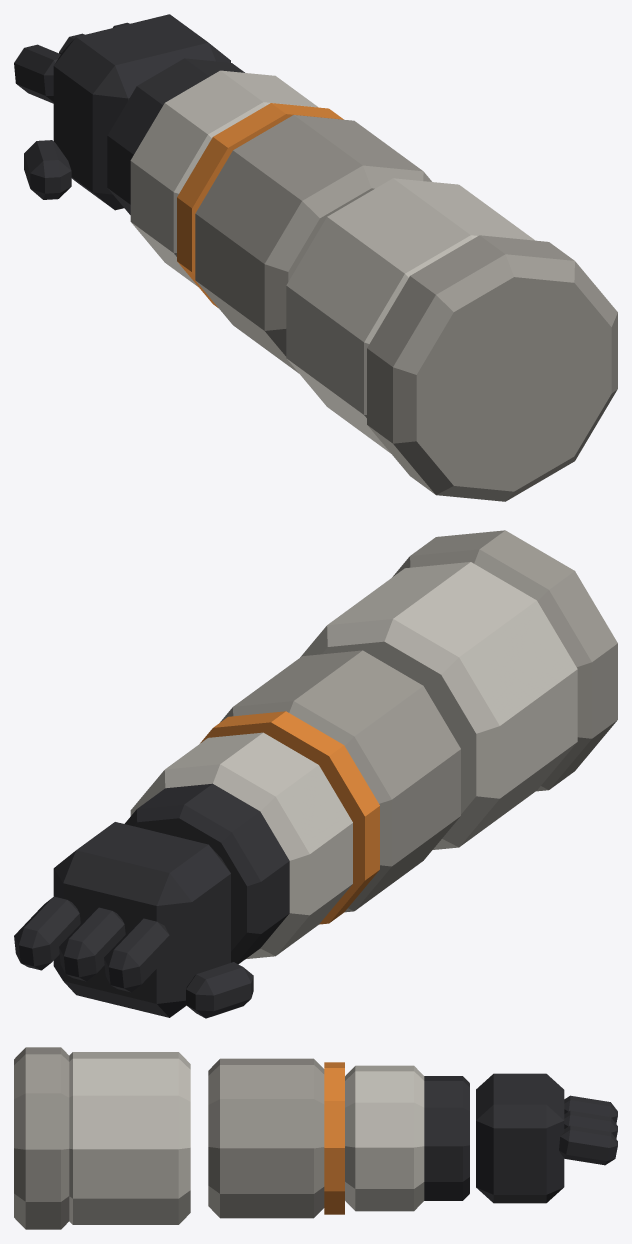
The model's file is TC_PLAYER_BareArm_V1.gltf.
3 views of the same model, one above another, from view 1: azimuth 30°, elevation 25°; view 2: azimuth 150°, elevation 25°; view 3: azimuth 270°, elevation 25° (orthographic). The views are drawn at different scales.
Parts seen in each view (by area): view 1: TC_BareArm_Elbow, TC_BareArm_Sleeve_1, TC_BareArm_Sleeve_0, TC_BareArm_Palm, TC_BareArm_Sleeve_2, TC_BareArm_GloveCuff, TC_BareArm_SuitStripe, TC_BareArm_Thumb, TC_BareArm_Finger_0; view 2: TC_BareArm_Sleeve_0, TC_BareArm_Sleeve_1, TC_BareArm_Palm, TC_BareArm_Sleeve_2, TC_BareArm_Elbow, TC_BareArm_GloveCuff, TC_BareArm_SuitStripe, TC_BareArm_Finger_0, TC_BareArm_Finger_1, TC_BareArm_Finger_2, TC_BareArm_Thumb; view 3: TC_BareArm_Sleeve_0, TC_BareArm_Sleeve_1, TC_BareArm_Sleeve_2, TC_BareArm_Palm, TC_BareArm_Elbow, TC_BareArm_GloveCuff, TC_BareArm_SuitStripe, TC_BareArm_Finger_2, TC_BareArm_Finger_0, TC_BareArm_Finger_1.
Boxes of the visible parts, x1=… form: TC_BareArm_Elbow: x1=367, y1=235, x2=617, y2=501; TC_BareArm_Sleeve_1: x1=195, y1=115, x2=431, y2=373; TC_BareArm_Sleeve_0: x1=286, y1=178, x2=534, y2=453; TC_BareArm_Palm: x1=53, y1=14, x2=230, y2=210; TC_BareArm_Sleeve_2: x1=130, y1=70, x2=318, y2=287; TC_BareArm_GloveCuff: x1=107, y1=58, x2=244, y2=214; TC_BareArm_SuitStripe: x1=177, y1=103, x2=343, y2=308; TC_BareArm_Thumb: x1=24, y1=140, x2=71, y2=199; TC_BareArm_Finger_0: x1=14, y1=44, x2=60, y2=103; TC_BareArm_Sleeve_0: x1=300, y1=562, x2=577, y2=849; TC_BareArm_Sleeve_1: x1=220, y1=650, x2=460, y2=912; TC_BareArm_Palm: x1=53, y1=822, x2=230, y2=1017; TC_BareArm_Sleeve_2: x1=130, y1=732, x2=352, y2=958; TC_BareArm_Elbow: x1=392, y1=530, x2=617, y2=791; TC_BareArm_GloveCuff: x1=124, y1=783, x2=289, y2=964; TC_BareArm_SuitStripe: x1=200, y1=711, x2=379, y2=924; TC_BareArm_Finger_0: x1=104, y1=918, x2=171, y2=992; TC_BareArm_Finger_1: x1=59, y1=907, x2=125, y2=981; TC_BareArm_Finger_2: x1=14, y1=896, x2=80, y2=970; TC_BareArm_Thumb: x1=186, y1=962, x2=253, y2=1018; TC_BareArm_Sleeve_0: x1=69, y1=1052, x2=190, y2=1224; TC_BareArm_Sleeve_1: x1=208, y1=1058, x2=324, y2=1218; TC_BareArm_Sleeve_2: x1=345, y1=1065, x2=424, y2=1211; TC_BareArm_Palm: x1=476, y1=1073, x2=564, y2=1203; TC_BareArm_Elbow: x1=14, y1=1047, x2=69, y2=1229; TC_BareArm_GloveCuff: x1=424, y1=1076, x2=469, y2=1200; TC_BareArm_SuitStripe: x1=324, y1=1062, x2=344, y2=1214; TC_BareArm_Finger_2: x1=559, y1=1125, x2=617, y2=1165; TC_BareArm_Finger_0: x1=564, y1=1095, x2=617, y2=1123; TC_BareArm_Finger_1: x1=564, y1=1110, x2=617, y2=1138.
Size of the model in its own units: 0.3005 by 0.316 by 1.03.
